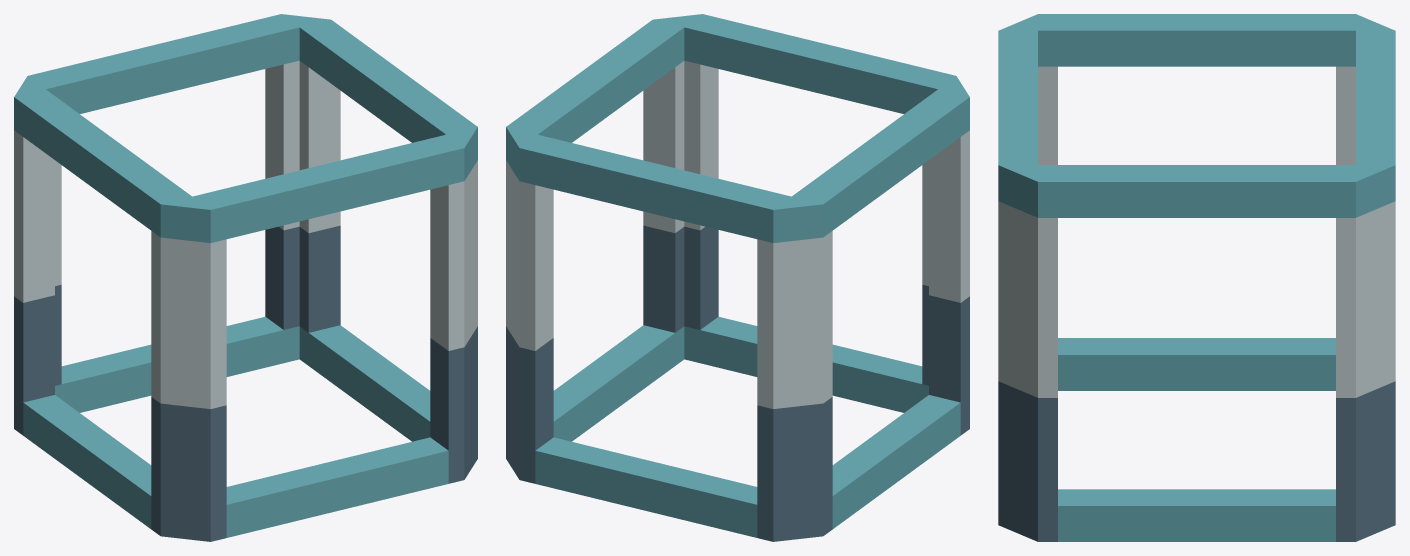
The model's file is structure_detailed.glb.
The picture shows the model from 3 angles, left to right: view 1: azimuth 30°, elevation 25°; view 2: azimuth 150°, elevation 25°; view 3: azimuth 270°, elevation 25°; orthographic projection. The views are drawn at different scales.
Parts seen in each view (by area): view 1: structure_detailed; view 2: structure_detailed; view 3: structure_detailed.
Boxes of the visible parts, x1=… form: structure_detailed: x1=14, y1=14, x2=477, y2=541; structure_detailed: x1=506, y1=14, x2=969, y2=541; structure_detailed: x1=998, y1=14, x2=1395, y2=541.
Size of the model in its own units: 1 by 1 by 1.
